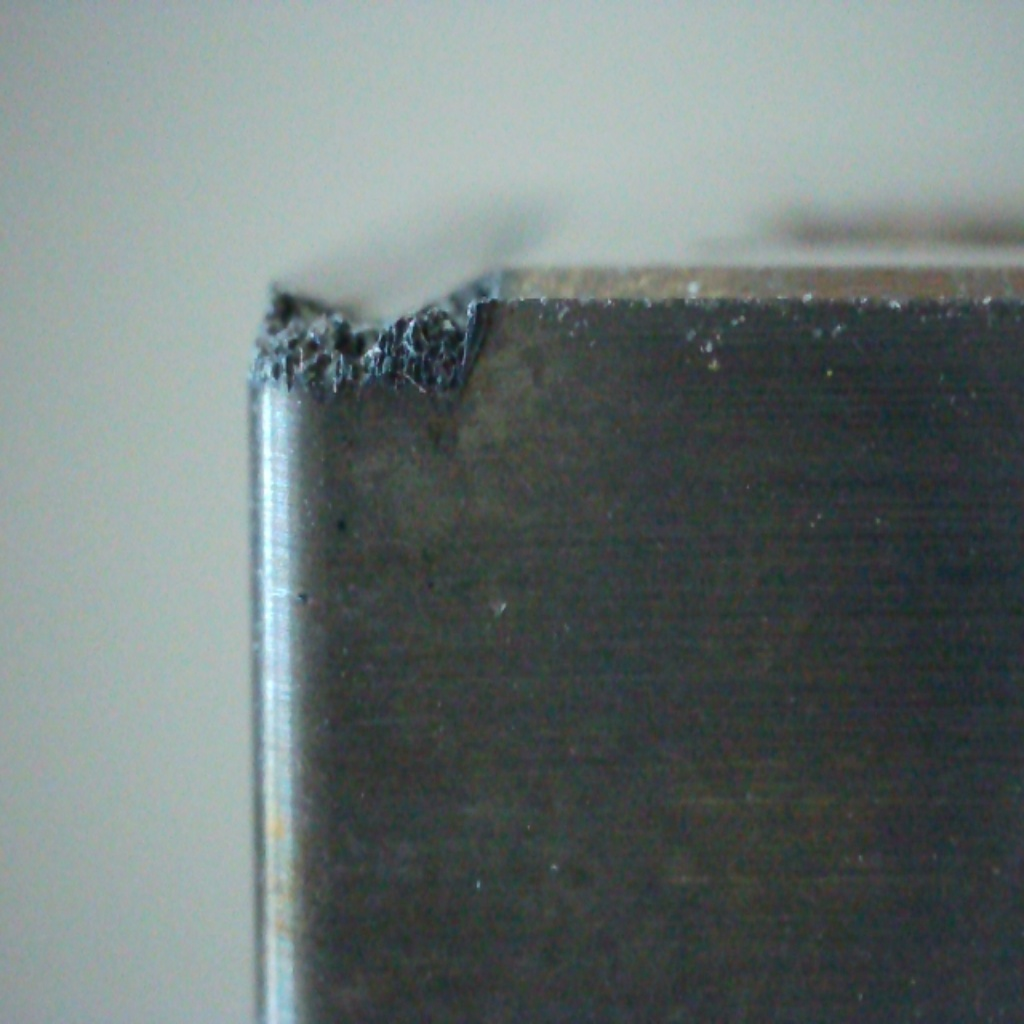flank_wear: (253, 331, 477, 395)
